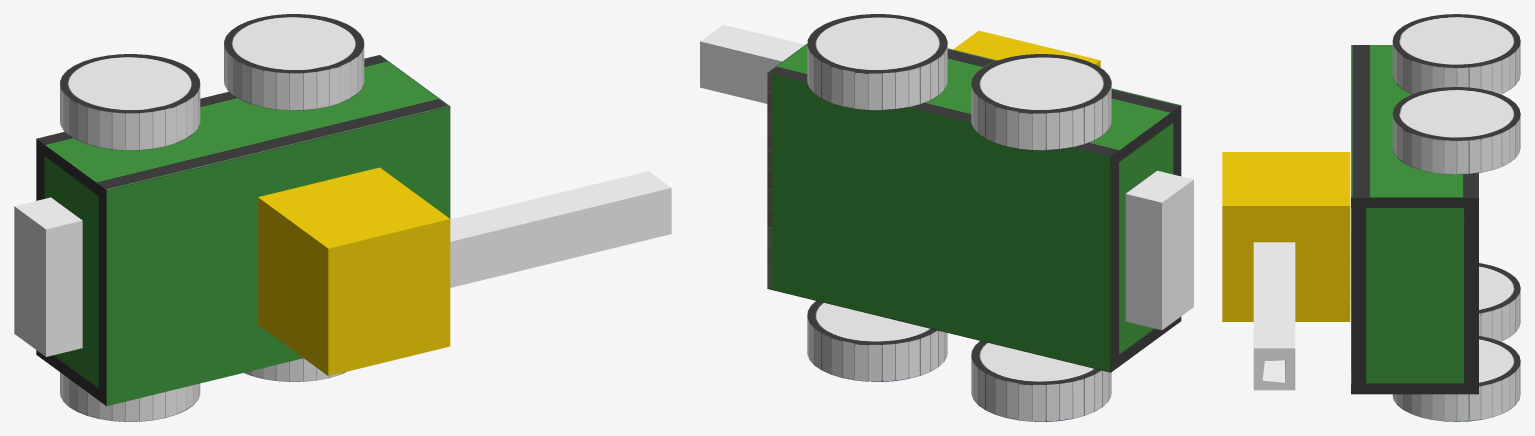
The model's file is TankCat.fbx.
The picture shows the model from 3 angles, left to right: view 1: azimuth 30°, elevation 25°; view 2: azimuth 150°, elevation 25°; view 3: azimuth 270°, elevation 25°; orthographic projection. The views are drawn at different scales.
Parts seen in each view (by area): view 1: Cannon; view 2: Cannon; view 3: Cannon.
Boxes of the visible parts, x1,y1,x2,y2 form: Cannon: [14, 14, 671, 421]; Cannon: [700, 14, 1193, 421]; Cannon: [1222, 14, 1520, 421].
Bounding box in the file's own units: 9 × 4.84 × 4.66.
Materials: 5 (5 with a texture image).
